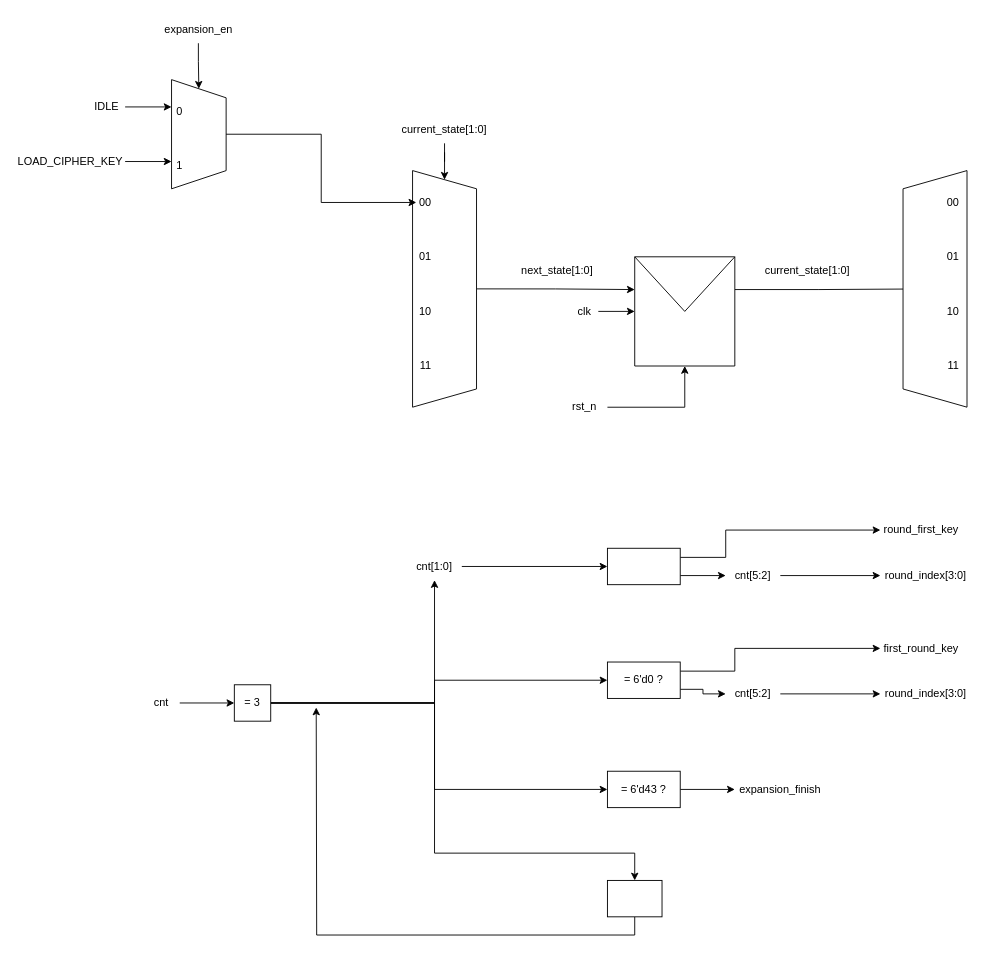
Image size: 986x958. Some labels were removed from this diagram. Here are the shapes that lost their labels. From the top down, the centre of each, then its label:
At (643,566): "= 2'b00 ?".
At (634,898): "cnt++".
